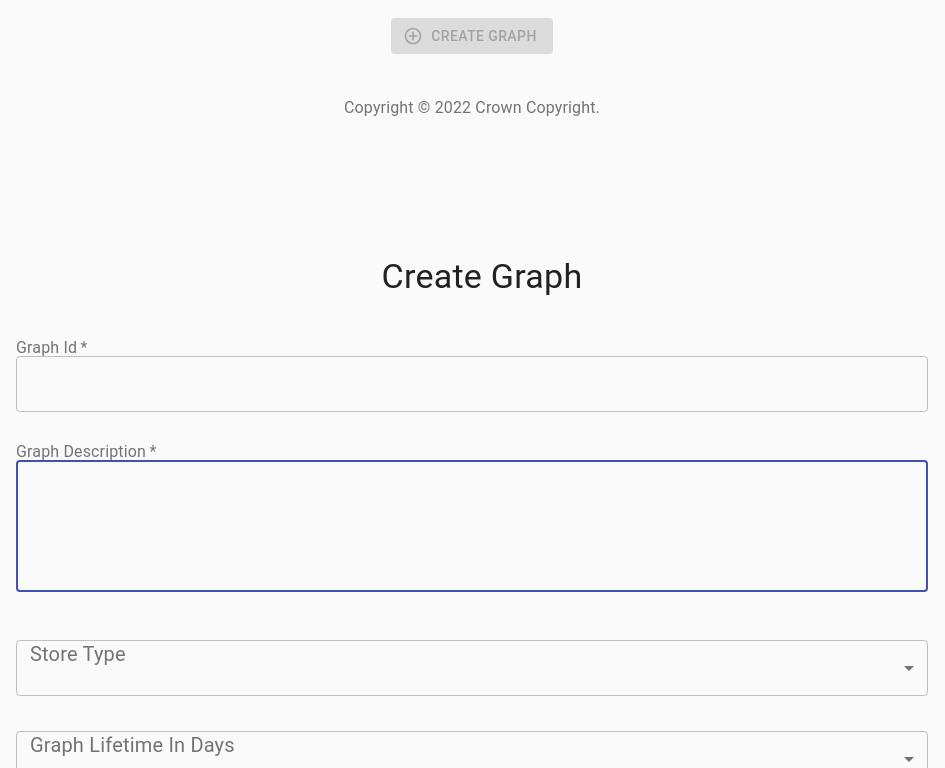
Scenario: CreateGraph UI component › When GetAllGraphsRepo is called › Should display the graphs returned by GetAllGraphsRepo in the graphs table, when federated store type is selected
(page scrolled)
Replace the text in the field named "store-type-select" with "federated" at (472, 668), box [16,640,928,696]
(page scrolled)
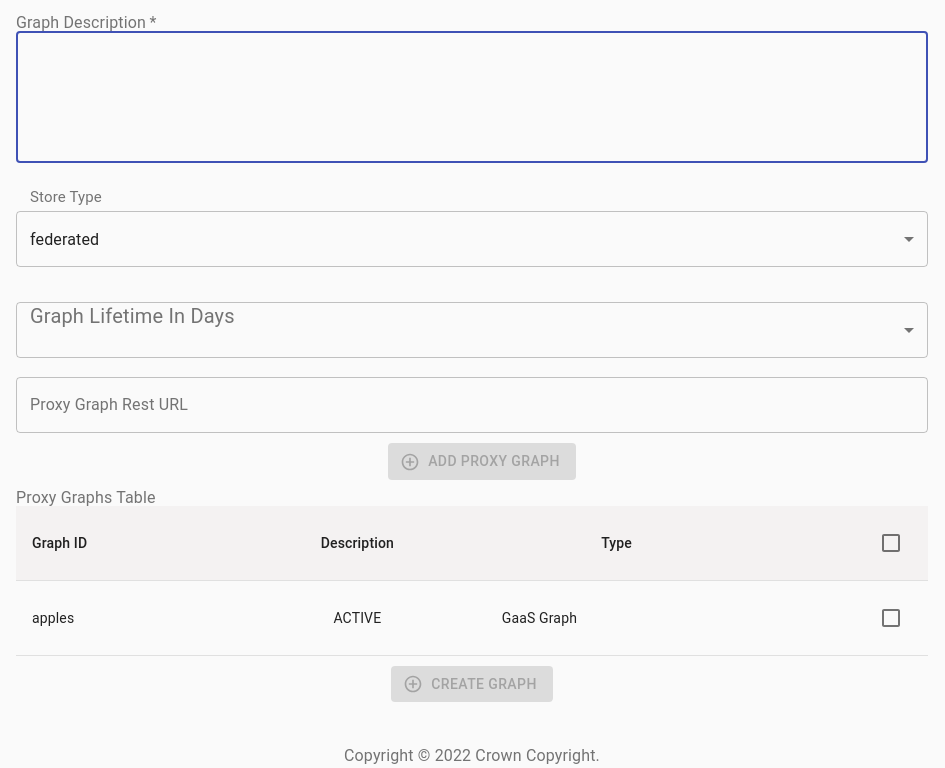
expect the table reads "apples ACTIVE GaaS Graph": met, box [16,580,928,656]
